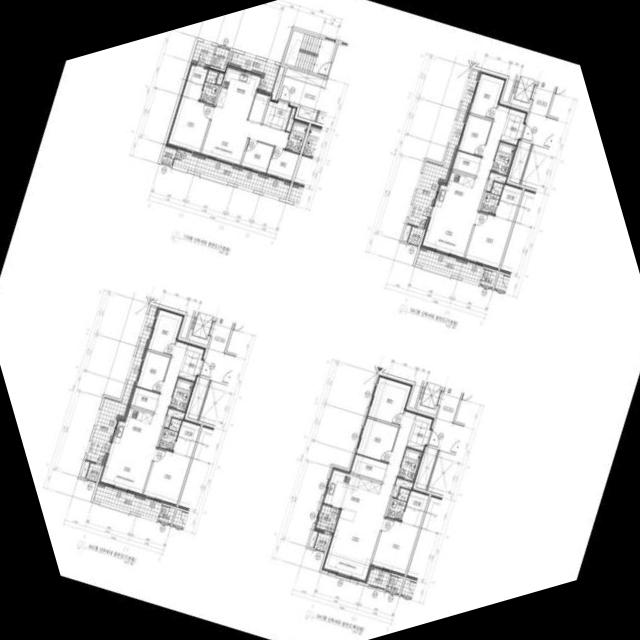background: (0, 0, 640, 640)
space_balconi: (406, 68, 478, 228), (84, 305, 156, 464), (172, 148, 289, 199), (92, 485, 161, 519), (414, 249, 483, 283), (227, 50, 278, 92), (312, 503, 339, 534), (191, 40, 215, 66), (366, 568, 389, 589)
space_bedroom: (370, 517, 418, 576), (142, 447, 189, 506), (165, 95, 212, 154), (464, 211, 511, 270), (199, 317, 235, 385), (521, 81, 557, 148), (365, 374, 411, 424), (354, 417, 397, 462), (145, 307, 183, 355), (467, 70, 505, 118), (456, 113, 491, 156), (134, 350, 169, 392), (239, 139, 273, 174), (265, 147, 298, 182)
space_dressroom: (172, 418, 200, 457), (494, 182, 522, 221), (401, 488, 428, 526), (180, 62, 207, 100)
space_elevator_hall: (427, 387, 463, 454), (277, 76, 323, 110)
space_front: (262, 98, 291, 131), (405, 424, 431, 451), (177, 354, 203, 381), (499, 118, 525, 145)
space_kitchen: (321, 466, 381, 530), (213, 64, 259, 119), (110, 406, 153, 451), (432, 170, 475, 215)
space_living_room: (320, 409, 415, 583), (97, 339, 187, 496), (419, 103, 509, 260), (199, 110, 288, 166)
space_other: (198, 380, 226, 425), (520, 144, 548, 188), (427, 450, 454, 494), (348, 453, 387, 481), (415, 446, 437, 489), (508, 140, 530, 183), (186, 377, 208, 419), (284, 67, 326, 88), (247, 89, 269, 124), (128, 386, 158, 411), (450, 150, 480, 175), (270, 65, 283, 100), (485, 171, 506, 191), (163, 408, 184, 427), (211, 46, 228, 69), (392, 478, 412, 497), (412, 412, 433, 429), (184, 342, 205, 358), (506, 106, 527, 122), (385, 574, 402, 593), (479, 268, 496, 287), (296, 105, 317, 120), (158, 505, 174, 523), (285, 107, 295, 131), (79, 460, 89, 477), (308, 530, 317, 547), (401, 224, 410, 241), (215, 73, 223, 84)
space_outdoor_room: (313, 532, 329, 550), (85, 462, 100, 481), (160, 146, 175, 164), (407, 226, 422, 244)
space_staircase: (282, 30, 335, 76)
space_toilet: (168, 377, 192, 411), (397, 447, 421, 481), (490, 141, 514, 175), (479, 181, 503, 214), (157, 417, 181, 450), (386, 487, 409, 520), (285, 121, 307, 153), (199, 69, 218, 104)
